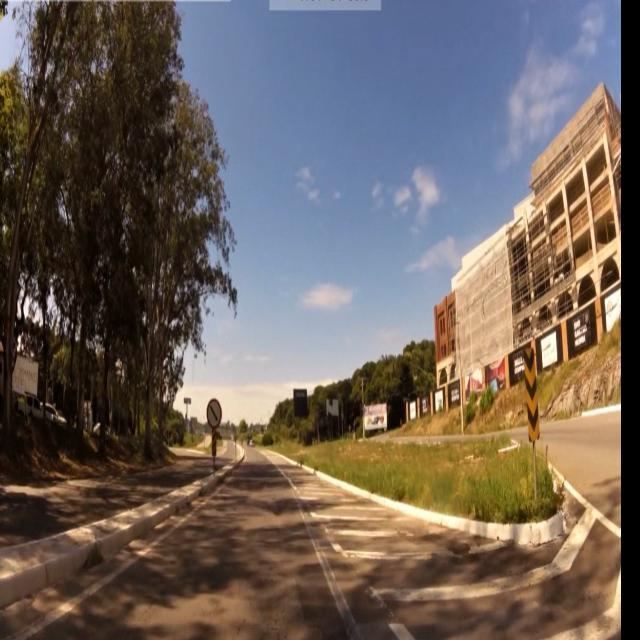MP: (524, 349, 542, 447)
R-24b: (205, 394, 223, 436)
